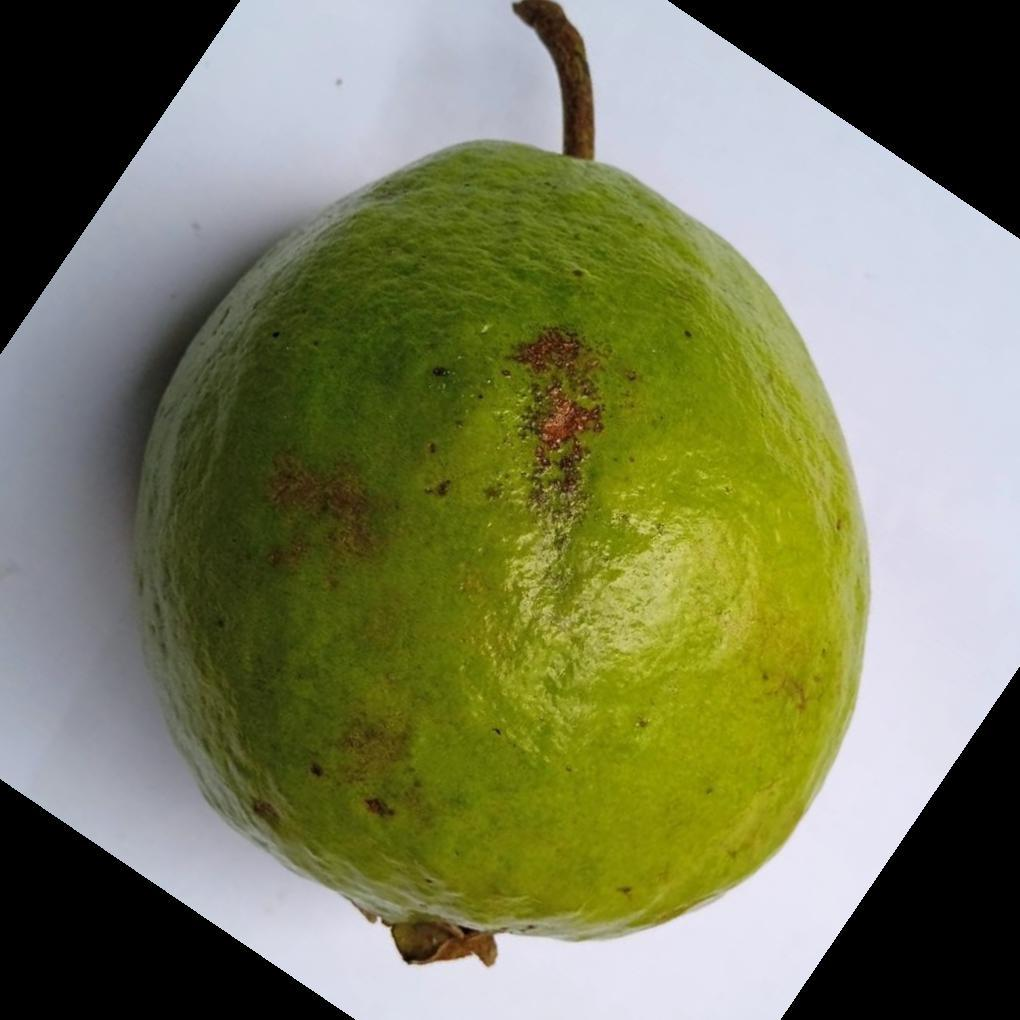FreshGuava: (128, 16, 875, 971)
